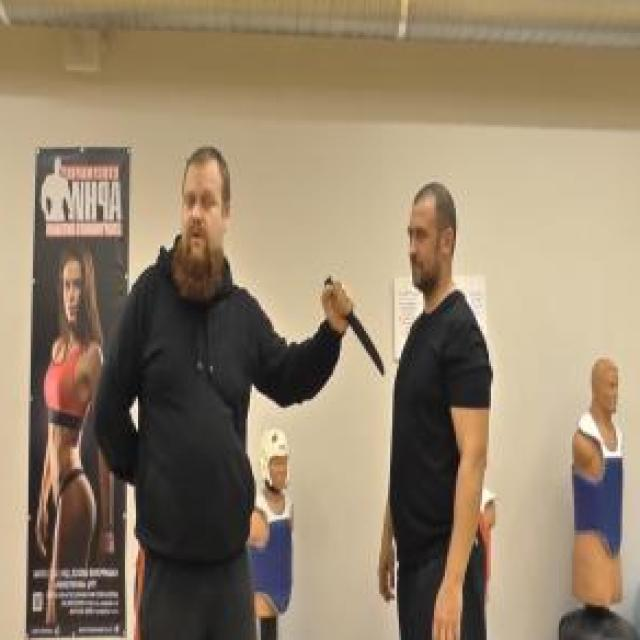knife: (320, 274, 388, 381)
